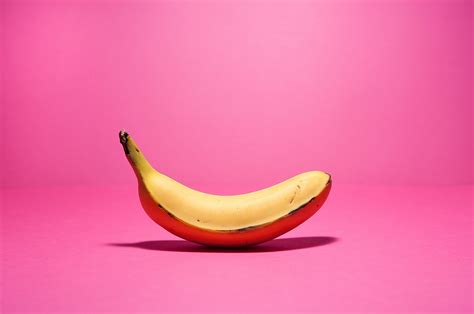banana: (132, 160, 338, 252)
